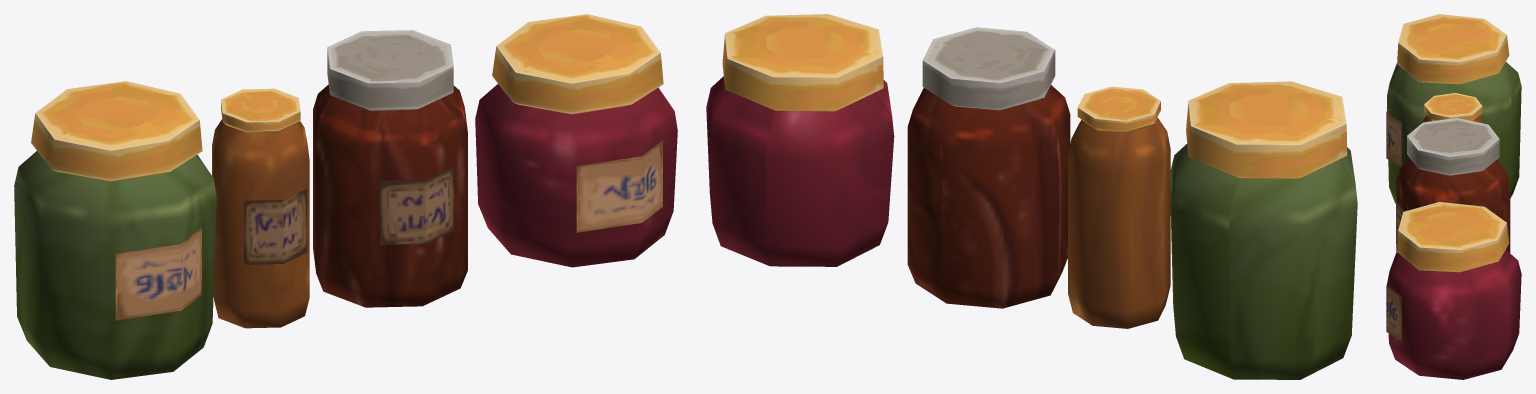
The model's file is Jar_Group4.fbx.
The picture shows the model from 3 angles, left to right: view 1: azimuth 30°, elevation 25°; view 2: azimuth 150°, elevation 25°; view 3: azimuth 270°, elevation 25°; orthographic projection. The views are drawn at different scales.
Visible parts, largest first — view 1: Jar_Group4; view 2: Jar_Group4; view 3: Jar_Group4.
Part boxes in pixels (x1=…): Jar_Group4: x1=14, y1=14, x2=677, y2=379; Jar_Group4: x1=706, y1=14, x2=1357, y2=379; Jar_Group4: x1=1386, y1=14, x2=1521, y2=379.
Size of the model in its own units: 61.11 by 21.58 by 16.31.
Materials: 1 (1 with a texture image).
